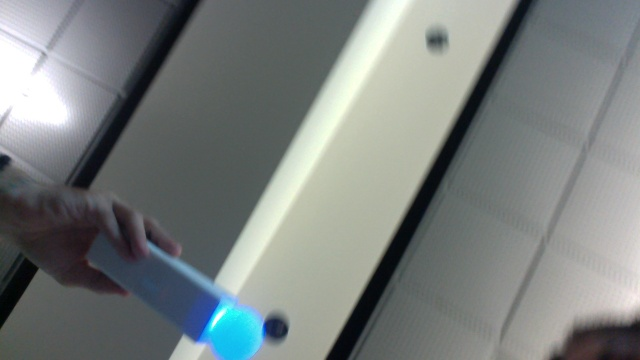wand: (211, 308, 263, 360)
